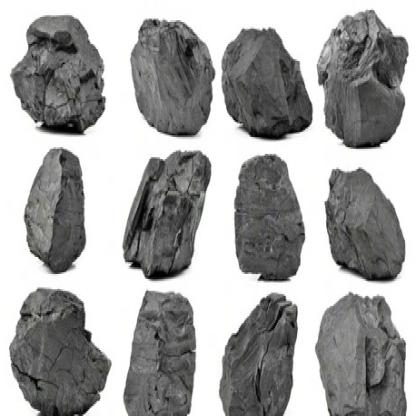Sedimentary_coal: (6, 279, 113, 414), (319, 5, 411, 157), (11, 9, 113, 142), (312, 284, 413, 414), (120, 151, 222, 279), (221, 5, 315, 139), (130, 10, 215, 147), (211, 292, 302, 414), (323, 166, 415, 275), (122, 292, 202, 414), (233, 152, 312, 274), (21, 147, 93, 279)
